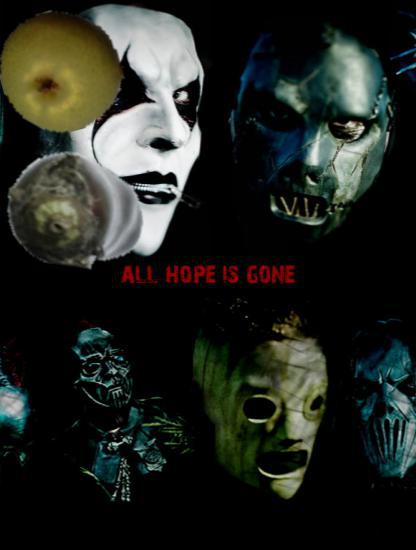Eggplant: (5, 139, 149, 283)
Pear: (0, 9, 124, 133)
